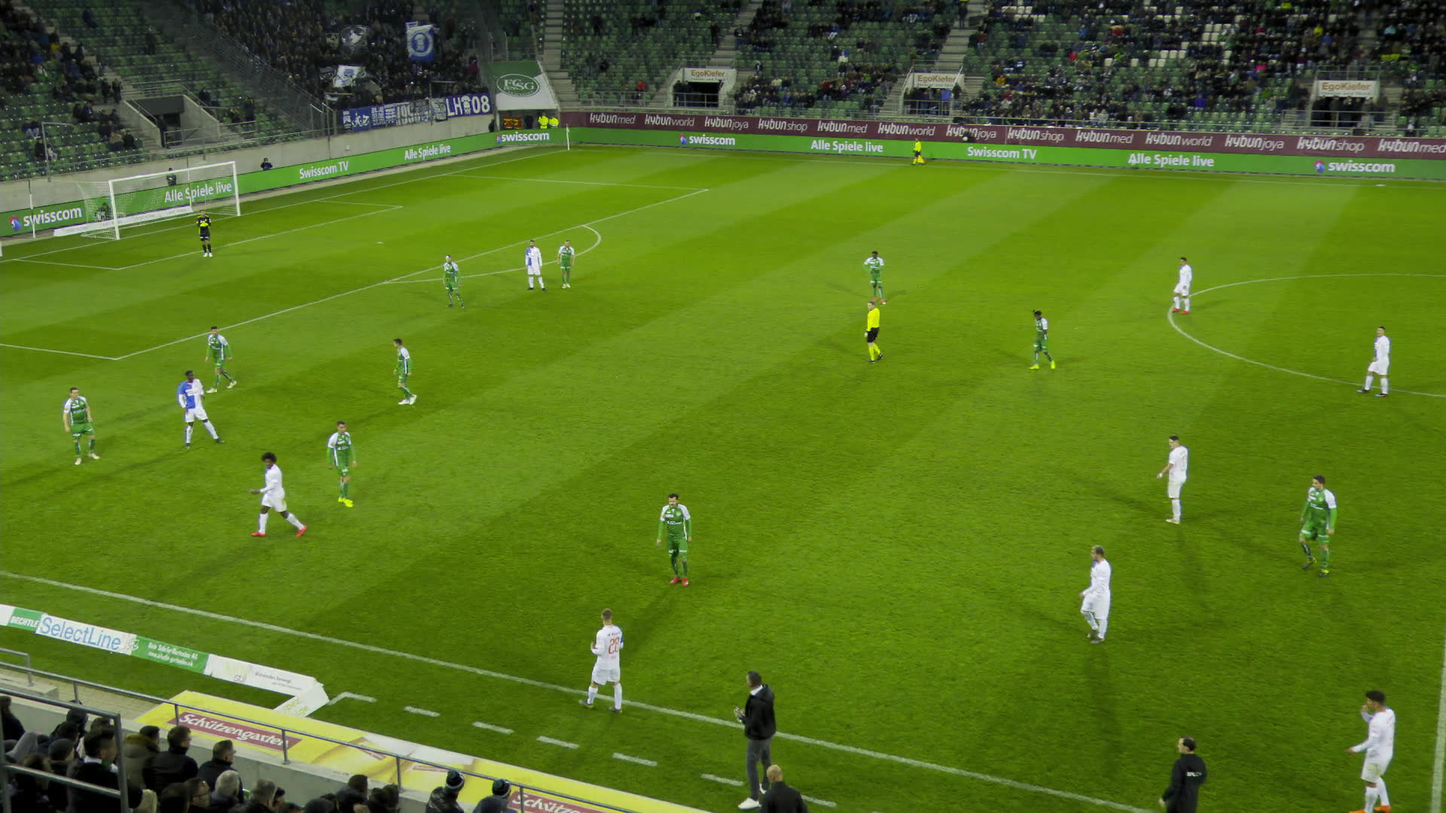ball: (593, 630, 597, 641)
player: (1344, 688, 1393, 810), (255, 452, 310, 537), (581, 607, 624, 714), (1294, 474, 1334, 576), (655, 493, 695, 586), (182, 368, 227, 446), (1078, 544, 1111, 643), (1155, 436, 1188, 526), (67, 387, 100, 464), (1354, 327, 1390, 397), (331, 419, 359, 506), (208, 326, 240, 392), (1028, 309, 1053, 369), (395, 338, 416, 406), (1168, 257, 1191, 315), (862, 251, 885, 306), (444, 255, 464, 309), (526, 240, 547, 291), (557, 240, 575, 288), (196, 209, 213, 257)
referee: (863, 303, 883, 361), (912, 138, 925, 166)
